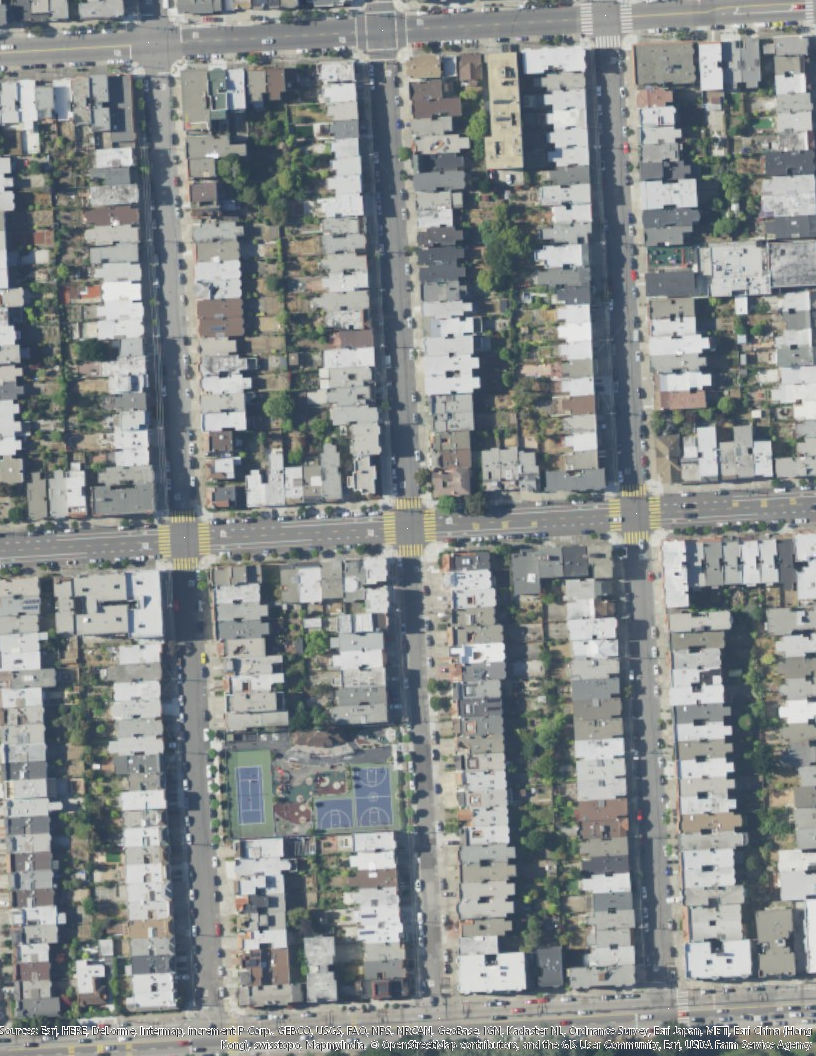zebracross: (618, 1, 636, 33), (579, 1, 594, 33), (383, 512, 397, 546), (158, 525, 172, 558), (423, 510, 437, 542), (198, 524, 211, 554), (596, 33, 622, 48), (399, 543, 424, 557), (170, 509, 196, 522), (173, 558, 199, 570), (399, 497, 422, 510)
